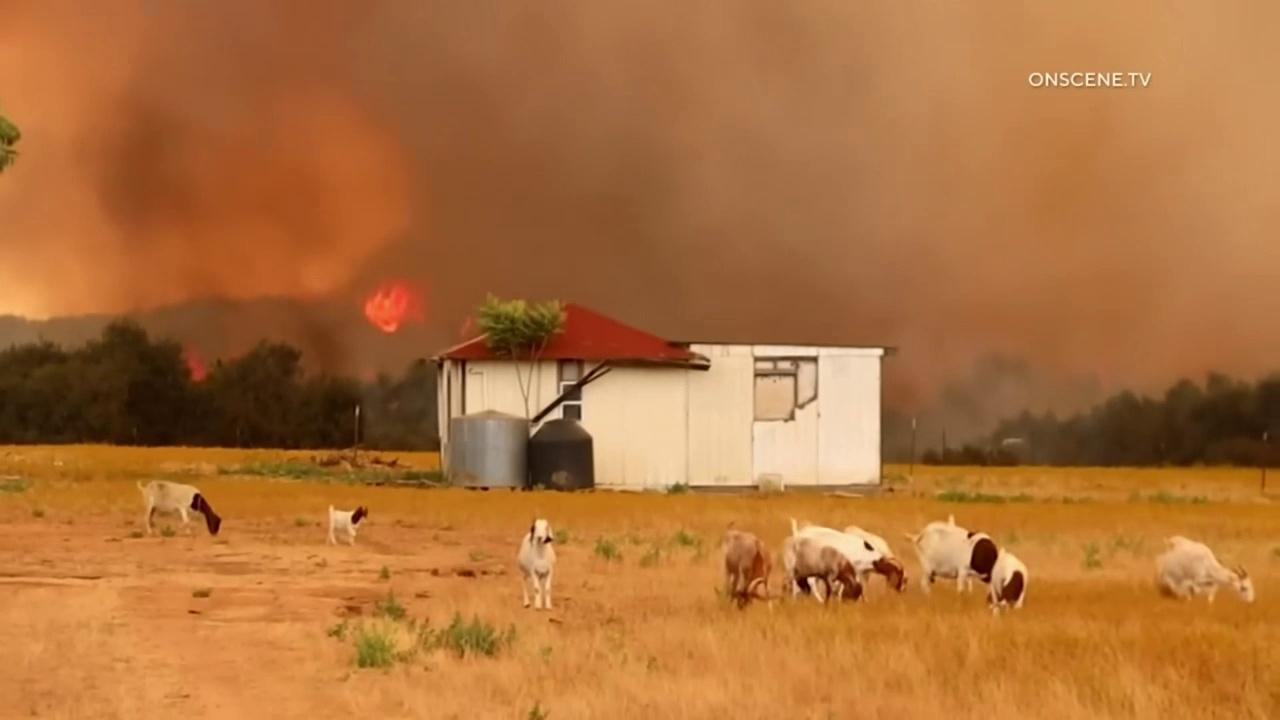fire: (359, 277, 433, 334), (182, 344, 206, 383), (460, 314, 475, 338)
smoke: (0, 0, 1280, 462)
